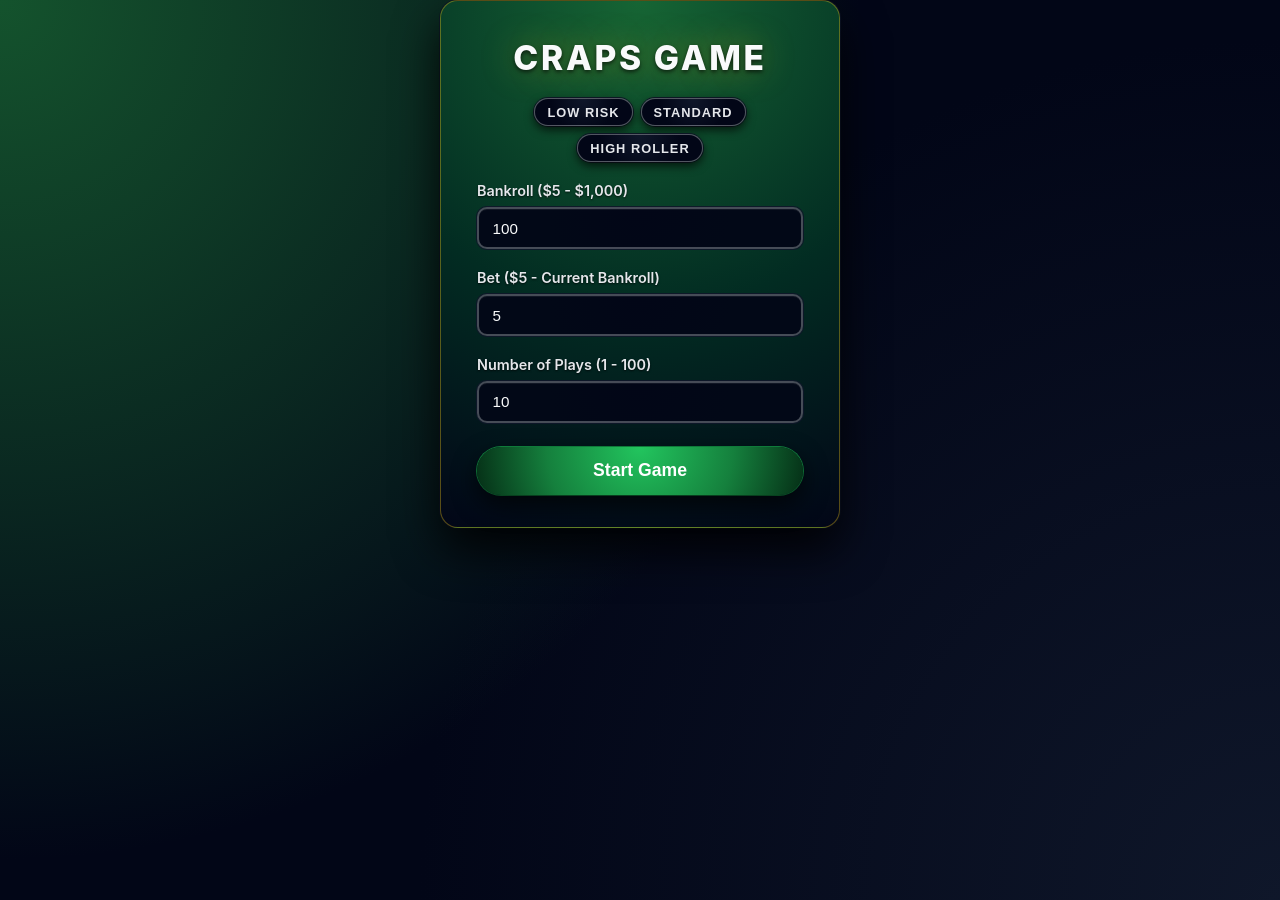
Test: GameControls Component › should apply preset values when preset buttons are clicked
Click the button "Low Risk" at [584, 112], box [534,98,633,126]
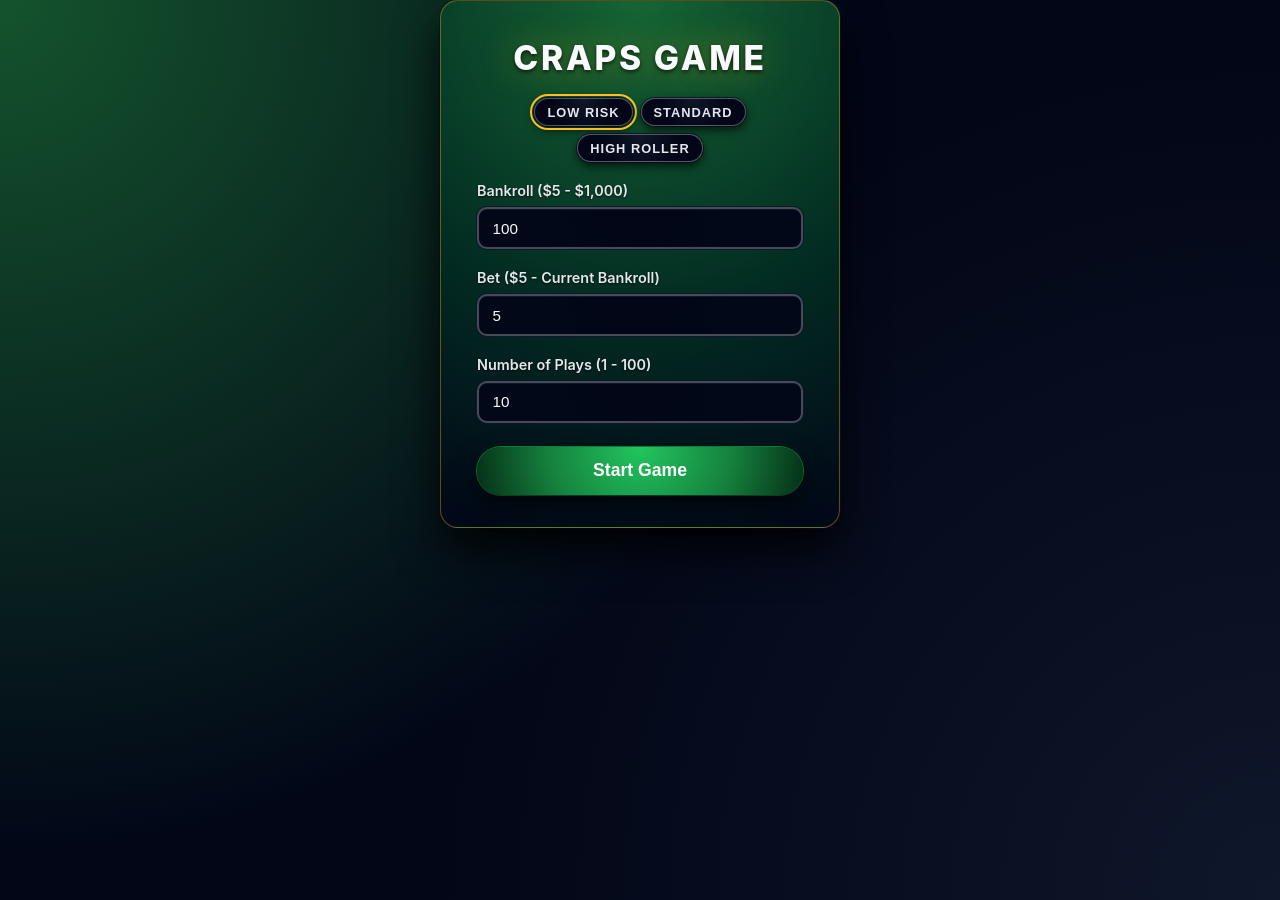
Expected: the number field labelled "Bankroll ($5 - $1,000)" holds "100", [477,207,803,249]
Expected: the number field labelled "Bet ($5 - Current Bankroll)" holds "5", [477,294,803,336]
Click the button "Standard" at [693, 112], box [641,98,746,126]
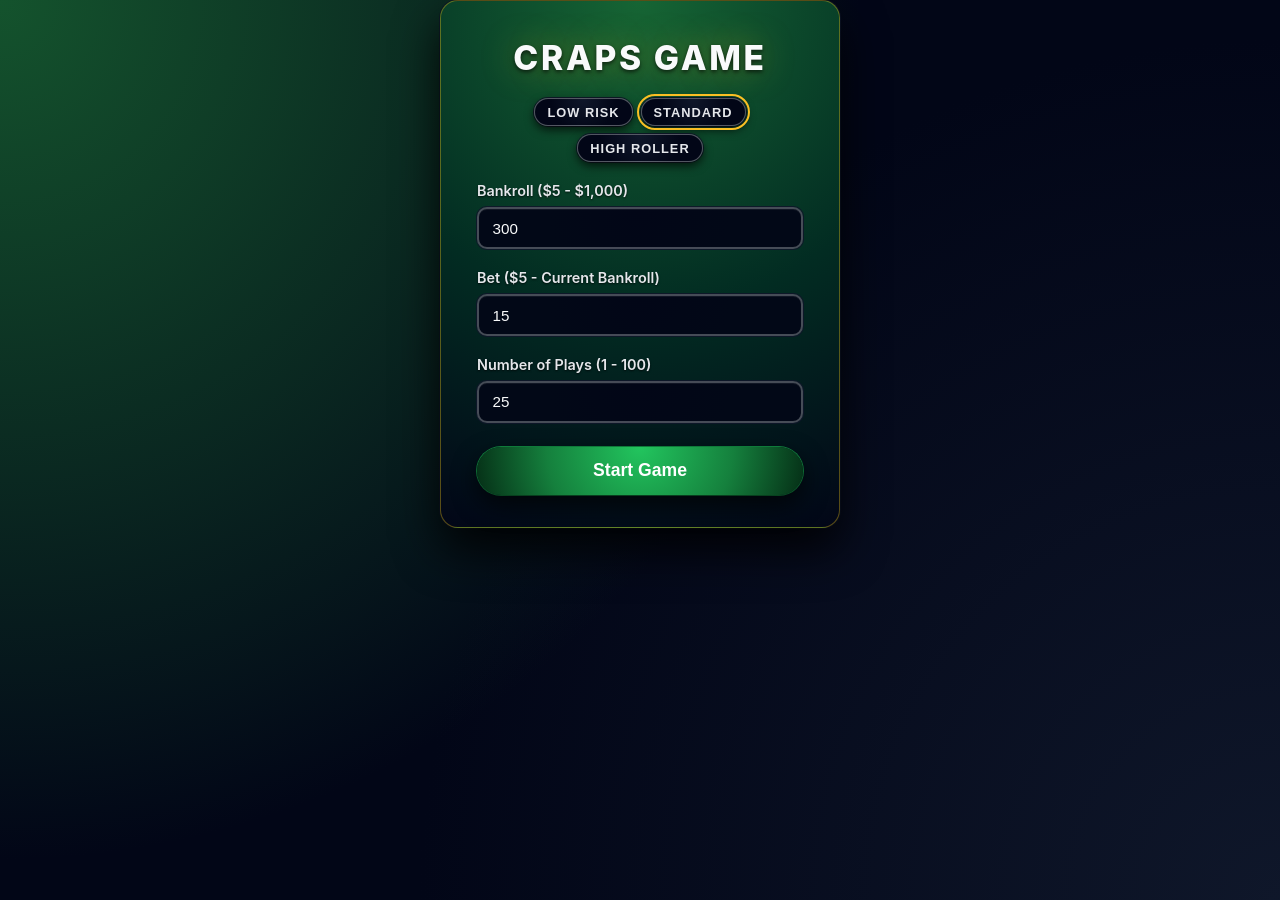
Expected: the number field labelled "Bankroll ($5 - $1,000)" holds "300", [477,207,803,249]
Expected: the number field labelled "Bet ($5 - Current Bankroll)" holds "15", [477,294,803,336]
Expected: the number field labelled "Number of Plays (1 - 100)" holds "25", [477,381,803,423]
Click the button "High Roller" at [640, 148], box [577,134,703,162]
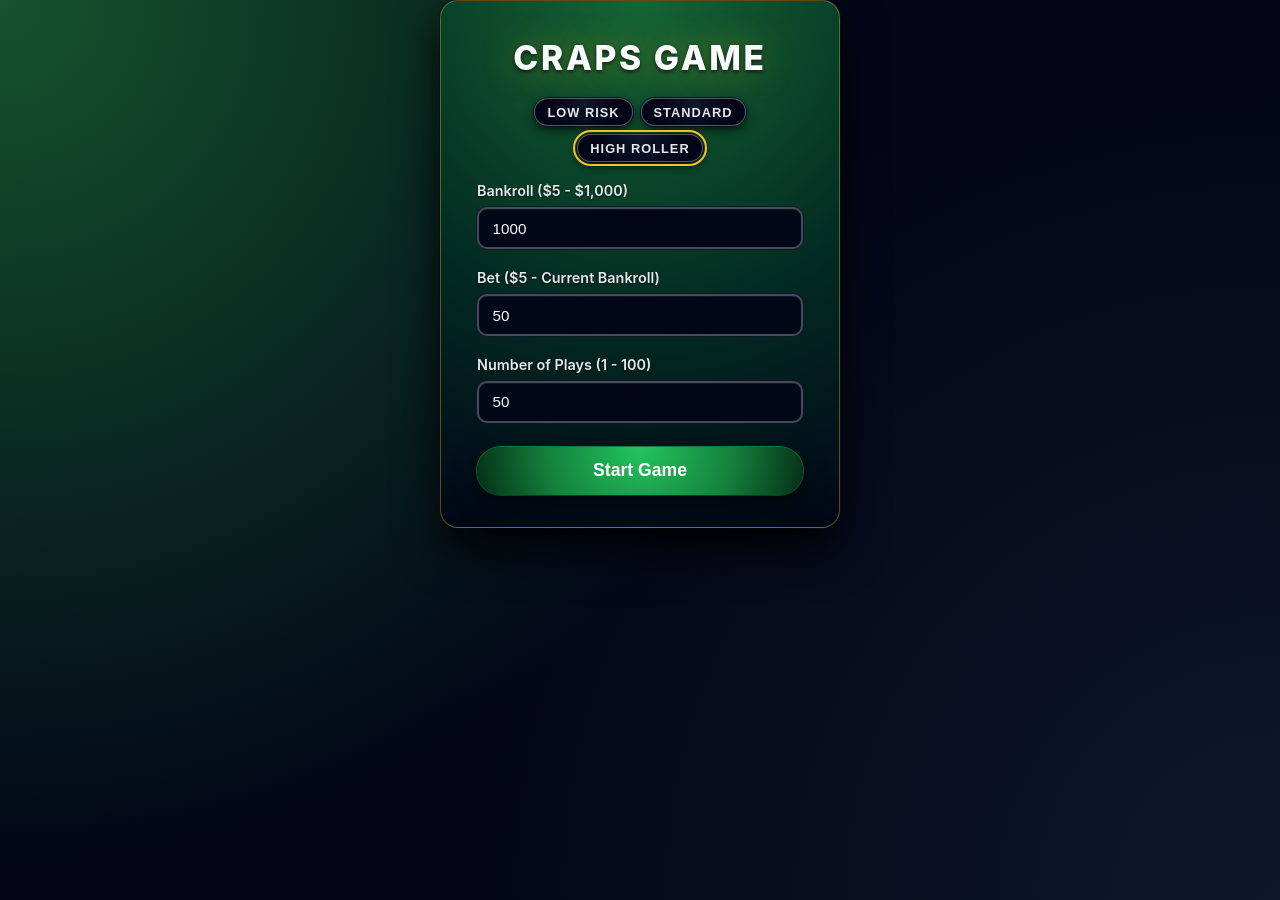
Expected: the number field labelled "Bankroll ($5 - $1,000)" holds "1000", [477,207,803,249]
Expected: the number field labelled "Bet ($5 - Current Bankroll)" holds "50", [477,294,803,336]
Expected: the number field labelled "Number of Plays (1 - 100)" holds "50", [477,381,803,423]
